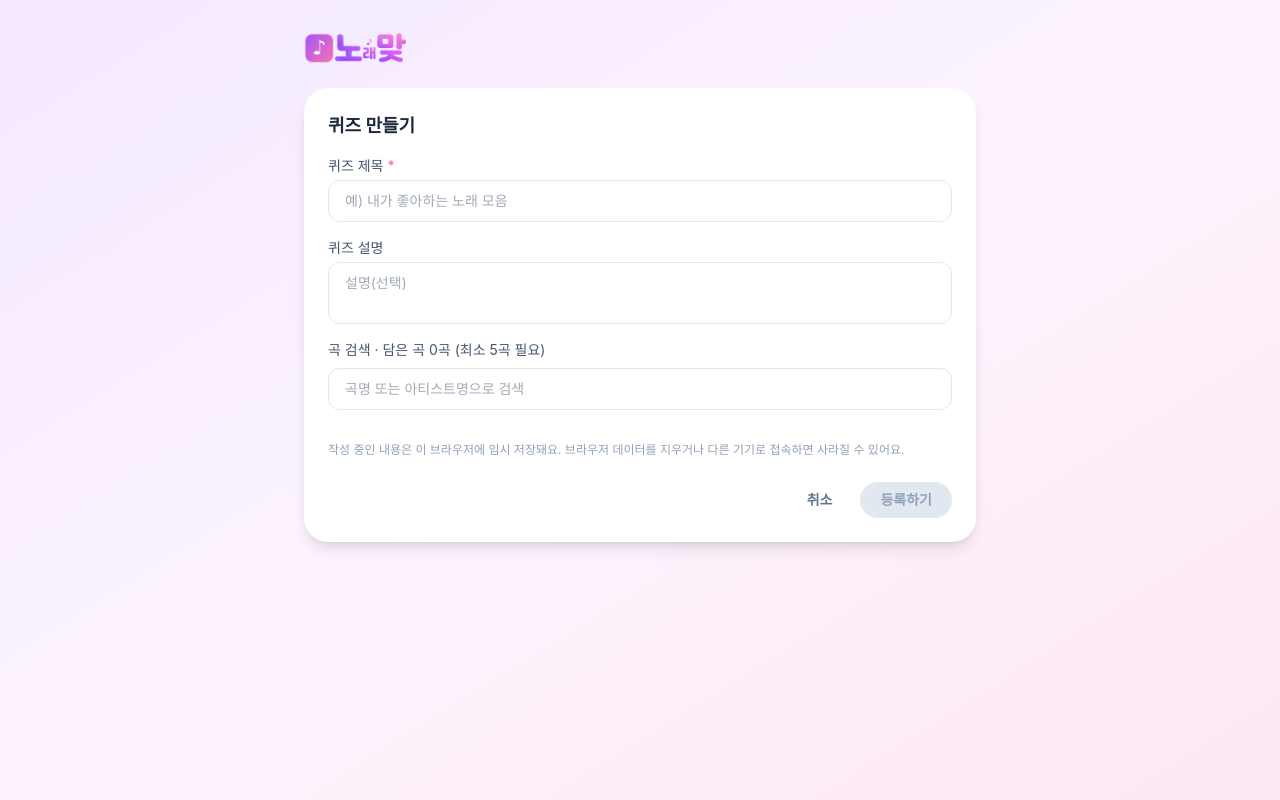
Test case: QuizBuilderPage › 곡을 검색해서 담고 링크를 확인하면 카드가 통과 상태가 된다
This screenshot has width=1280, height=800.
Type "봄날" into the field with placeholder "곡명 또는 아티스트명으로 검색" at (640, 389), box [328,368,952,410]
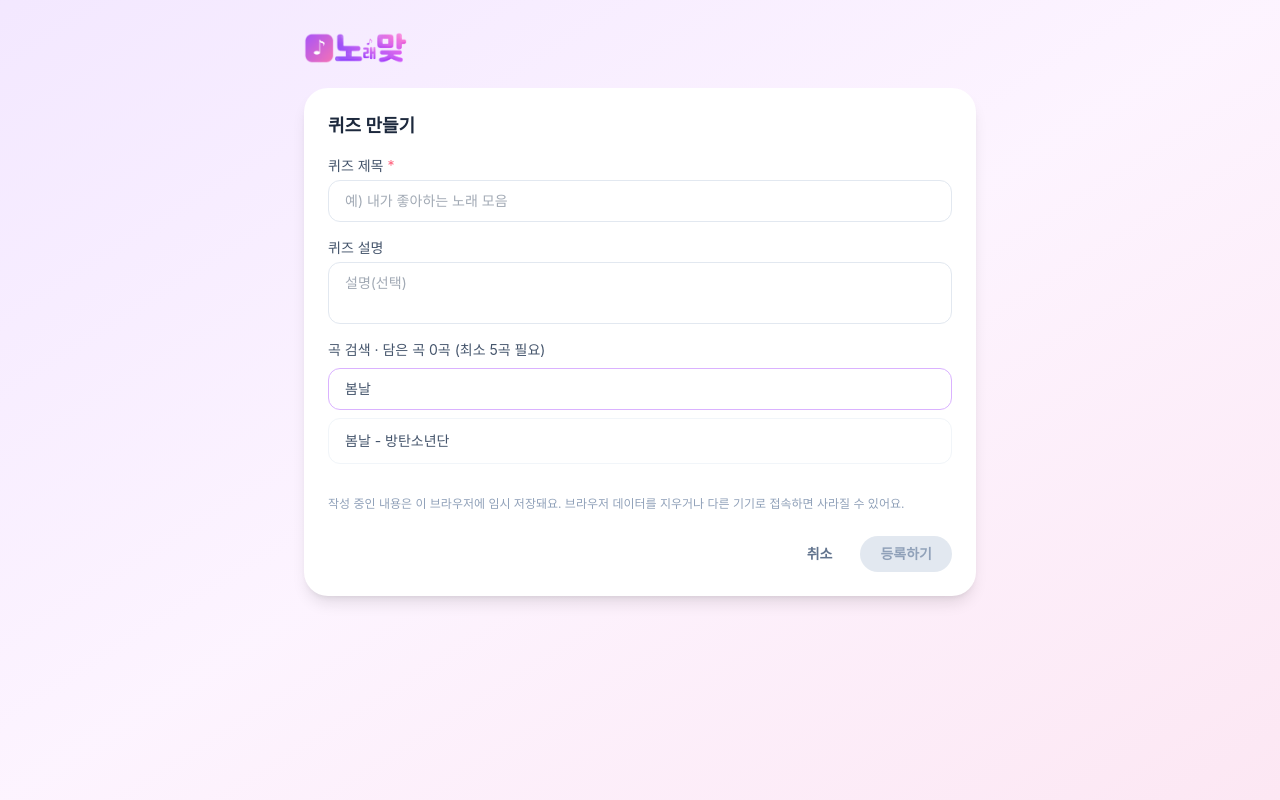
Click the button "봄날 - 방탄소년단" at (397, 440), box [333,423,947,459]
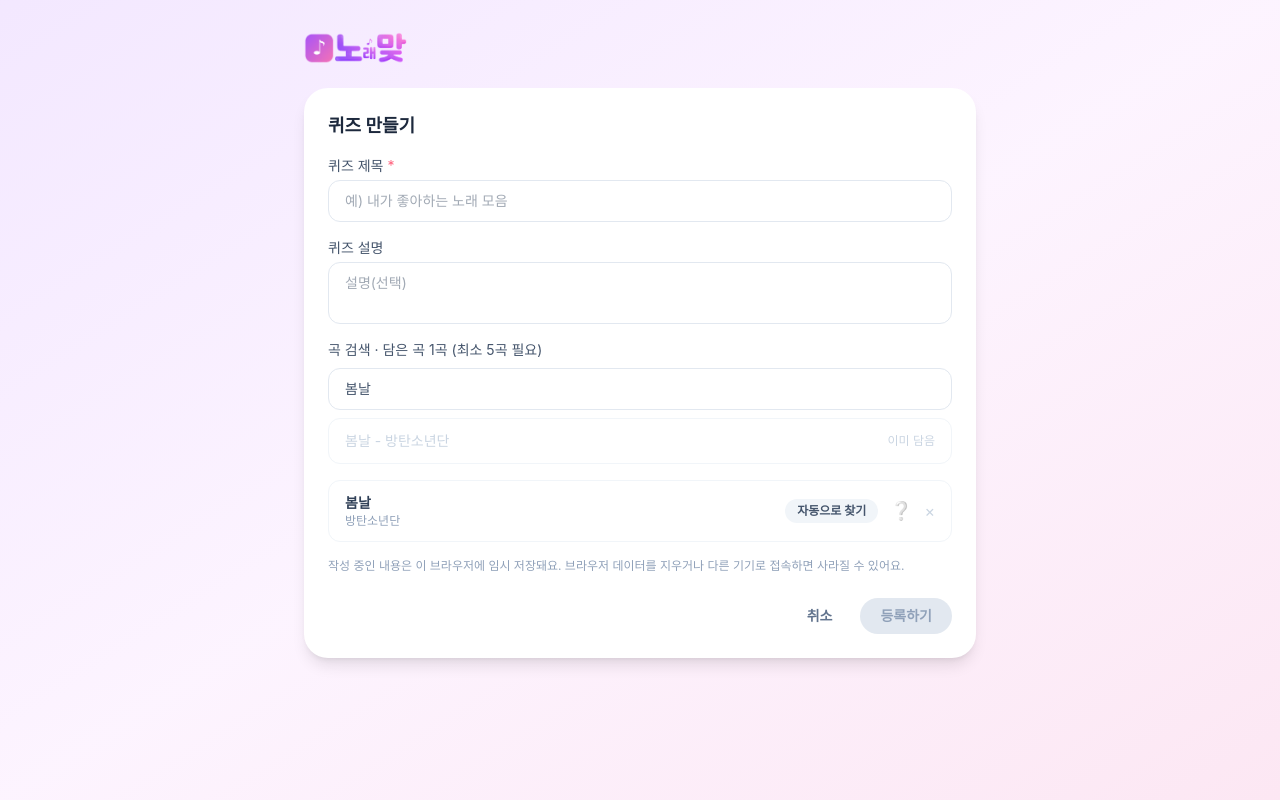
Check: the text "봄날" is shown
Click the text "봄날" at (358, 503), box [345,493,371,513]
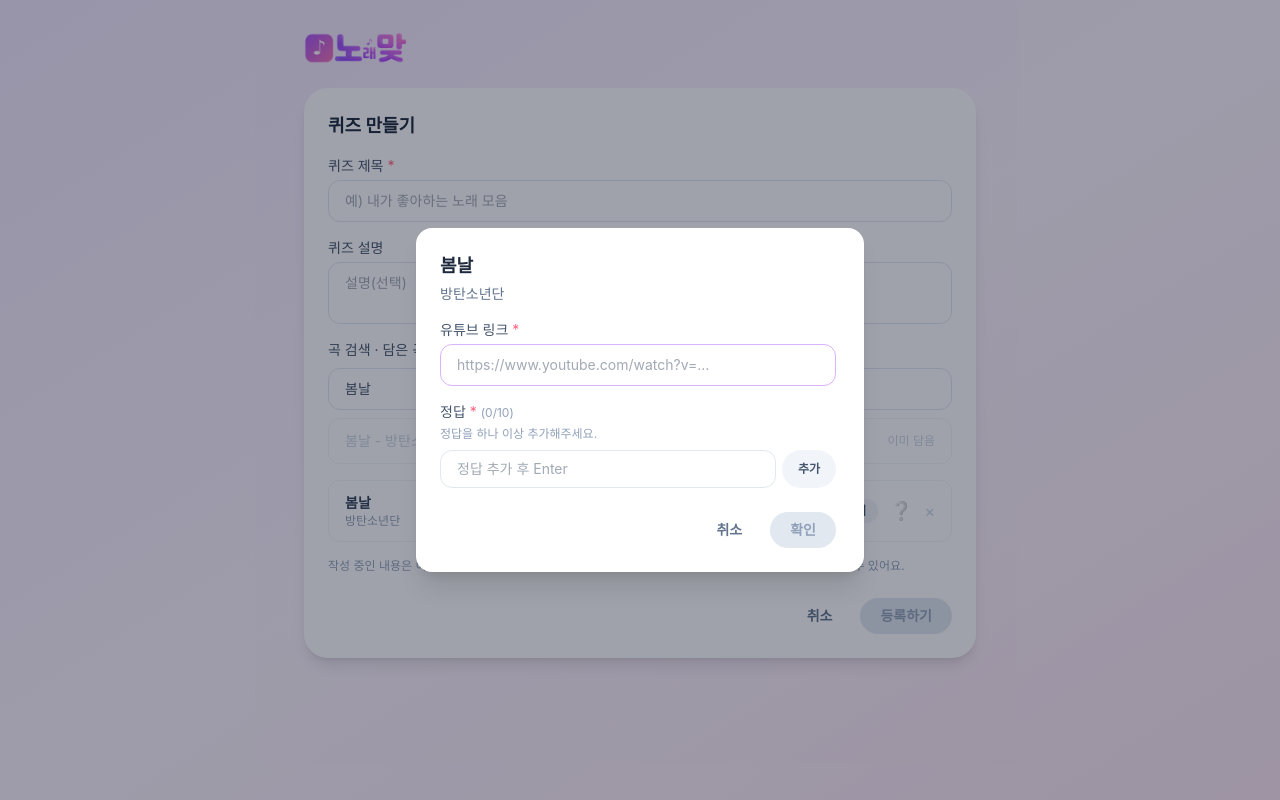
Type "https://www.youtube.com/watch?v=v1" into the field with placeholder "https://www.youtube.com/watch?v=..." at (638, 365), box [440,344,836,386]
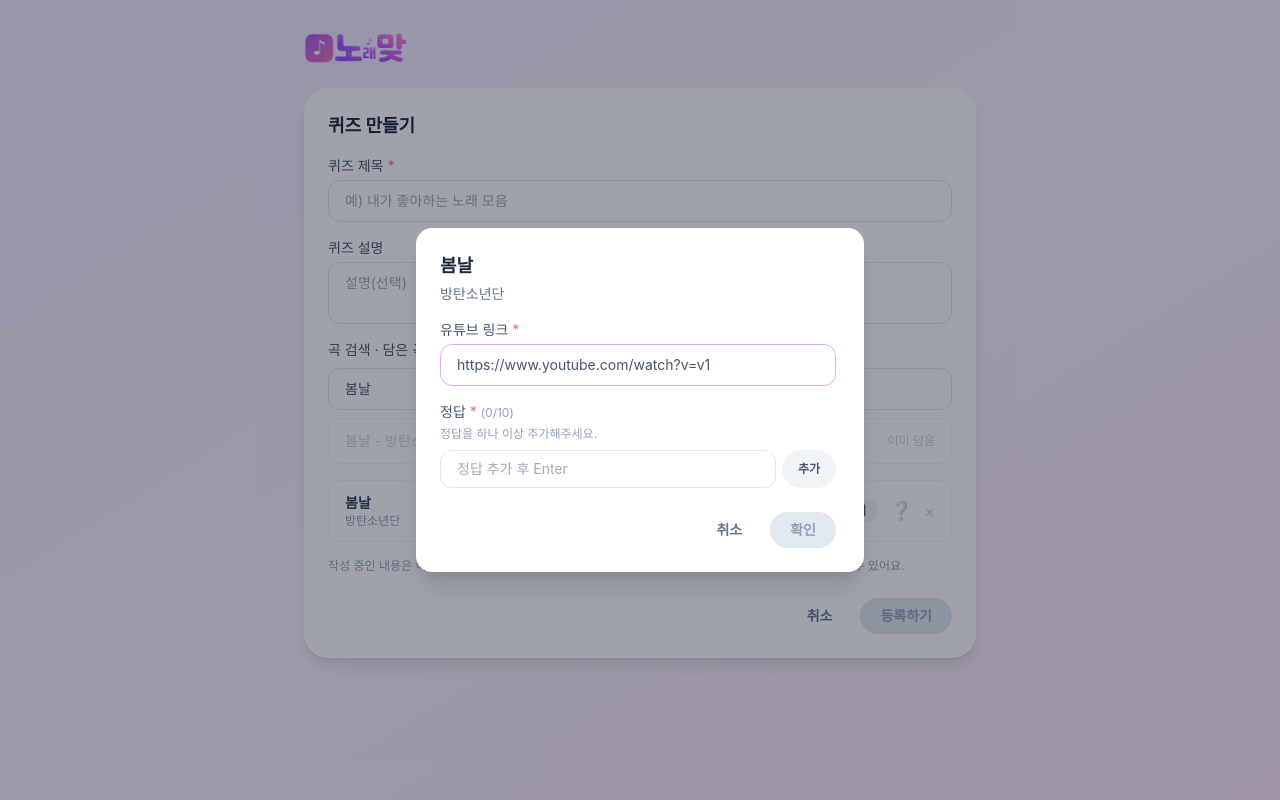
Type "봄날" into the field with placeholder "정답 추가 후 Enter" at (608, 469), box [440,450,776,488]
Then press Enter
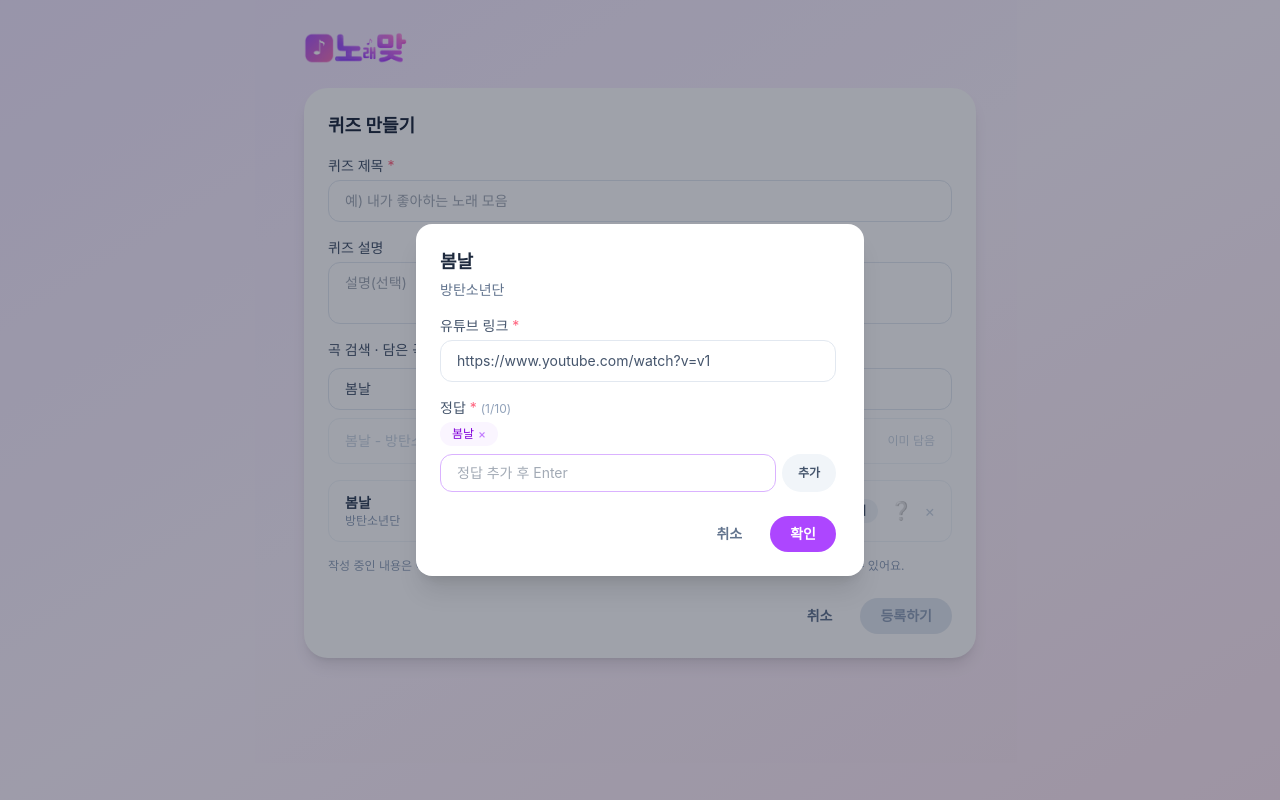
Click the button "확인" at (803, 534), box [770,516,836,552]
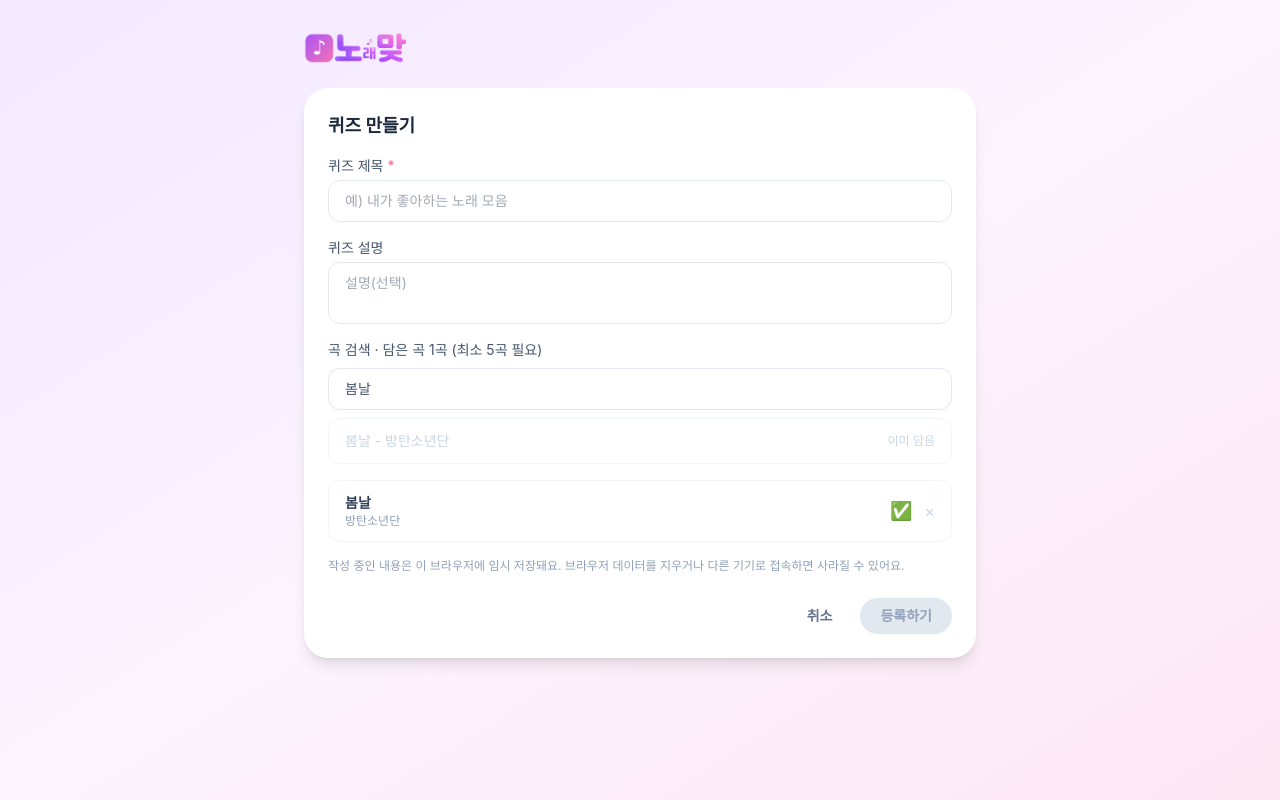
Check: the text "✅" is shown, box [890,497,912,525]
